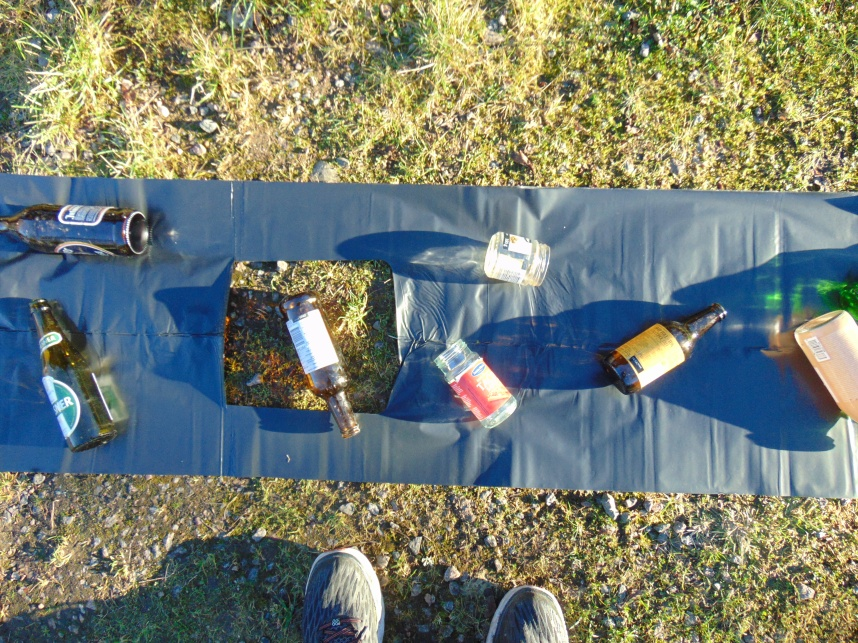glass_bottle: (30, 297, 117, 452), (604, 302, 728, 401), (279, 291, 360, 439), (792, 309, 858, 428), (1, 204, 148, 257), (435, 337, 517, 428), (483, 231, 550, 287)
